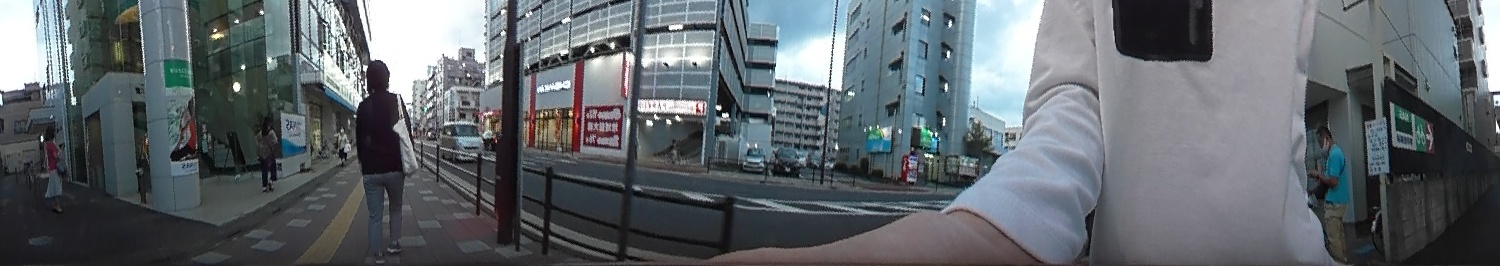difficult_person: (668, 137, 680, 164)
person: (354, 53, 418, 266), (1307, 121, 1358, 258), (34, 123, 73, 218), (252, 112, 285, 194), (333, 125, 350, 167)
